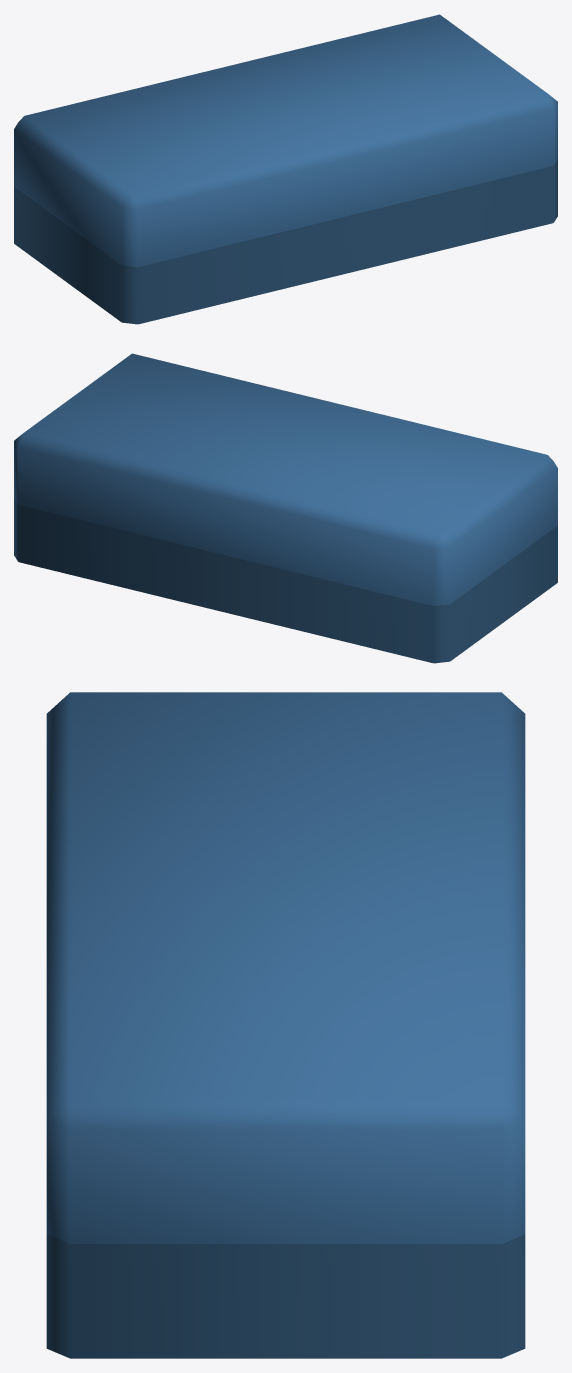
Rendered from RoofAdd_2_D_4.fbx.
The picture shows the model from 3 angles, top to bottom: view 1: azimuth 30°, elevation 25°; view 2: azimuth 150°, elevation 25°; view 3: azimuth 270°, elevation 25°; orthographic projection. The views are drawn at different scales.
Visible parts, largest first — view 1: RoofAdd_2_D_4; view 2: RoofAdd_2_D_4; view 3: RoofAdd_2_D_4.
Boxes of the visible parts, <box> form: RoofAdd_2_D_4: <box>14,14,557,324</box>; RoofAdd_2_D_4: <box>14,353,557,663</box>; RoofAdd_2_D_4: <box>46,692,525,1358</box>.
Size of the model in its own units: 270 by 74.17 by 128.
